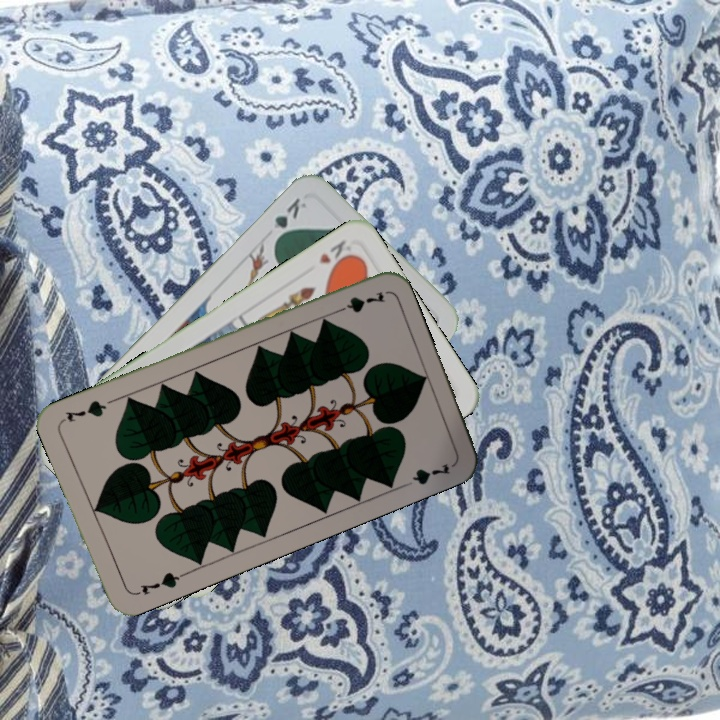G7: (130, 568, 187, 599), (329, 287, 387, 317)
GK: (269, 193, 310, 245)
HK: (314, 236, 357, 273)
